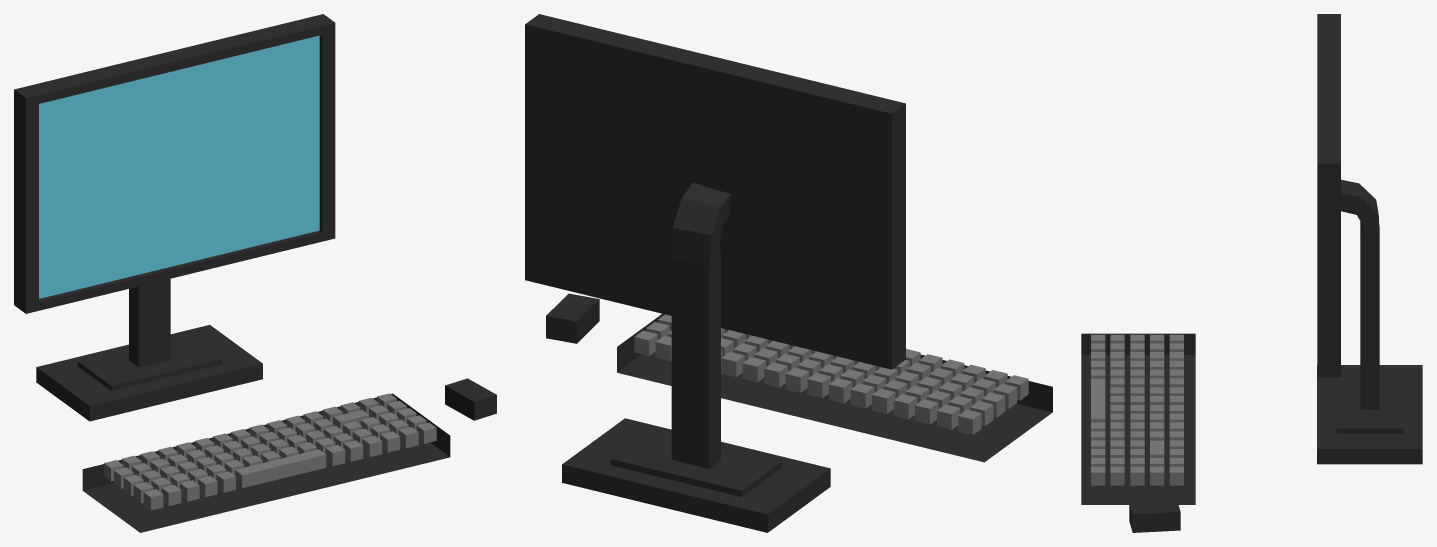
The model's file is monitor.glb.
3 renders of one model, left to right at view 1: azimuth 30°, elevation 25°; view 2: azimuth 150°, elevation 25°; view 3: azimuth 270°, elevation 25°, orthographic. The views are drawn at different scales.
Visible parts, largest first — view 1: Cube.002, Keyboard, Cube.001, Cube.003; view 2: Cube.002, Cube.001, Keyboard, Cube.003; view 3: Keyboard, Cube.001, Cube.002, Cube.003.
Boxes of the visible parts, x1,y1,x2,y2 form: Cube.002: (14, 14, 335, 313); Keyboard: (82, 393, 450, 532); Cube.001: (36, 278, 262, 421); Cube.003: (445, 378, 496, 420); Cube.002: (525, 14, 905, 369); Cube.001: (562, 182, 830, 532); Keyboard: (617, 314, 1052, 462); Cube.003: (546, 293, 599, 343); Keyboard: (1081, 333, 1195, 504); Cube.001: (1317, 179, 1422, 464); Cube.002: (1317, 14, 1340, 377); Cube.003: (1129, 500, 1180, 532).
Size of the model in its own units: 1.48 by 1.28 by 1.16.
